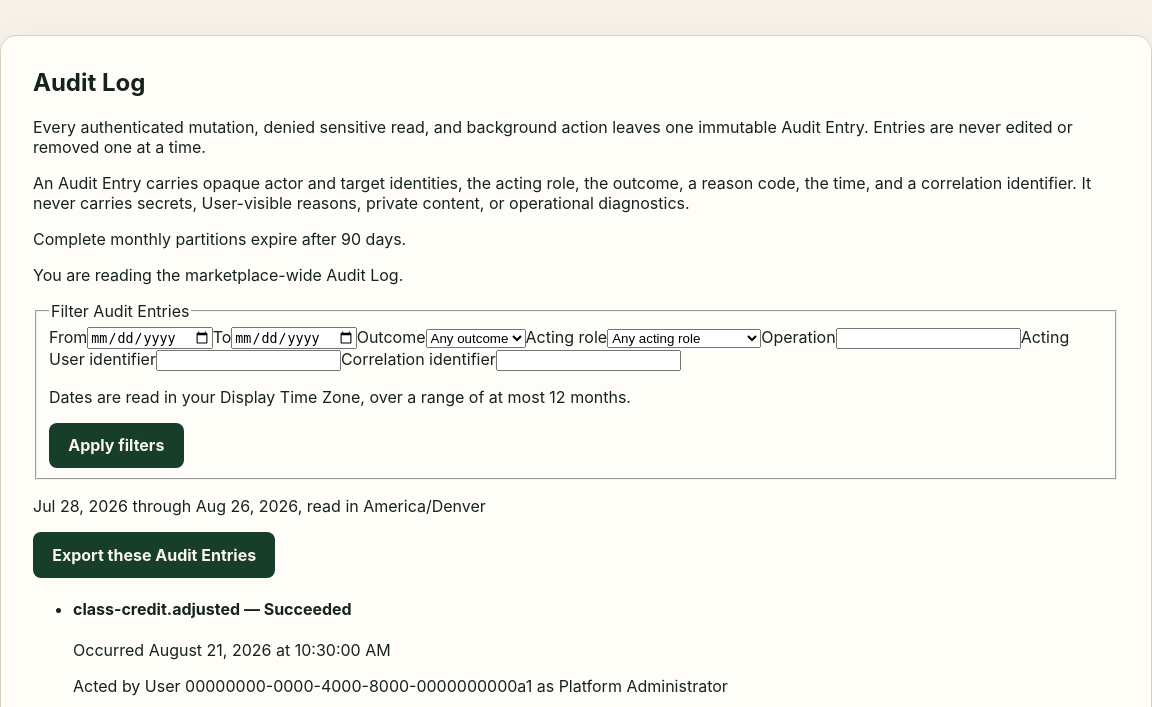
Test: Audit Log panel › applies a stated filter and pages back through older entries
expect the heading "class-credit.adjusted — Succeeded" is shown: met, box 73,599 -> 352,619
In the date field labelled "From": (150, 338) 87,327 -> 213,349, type "2026-08-22"
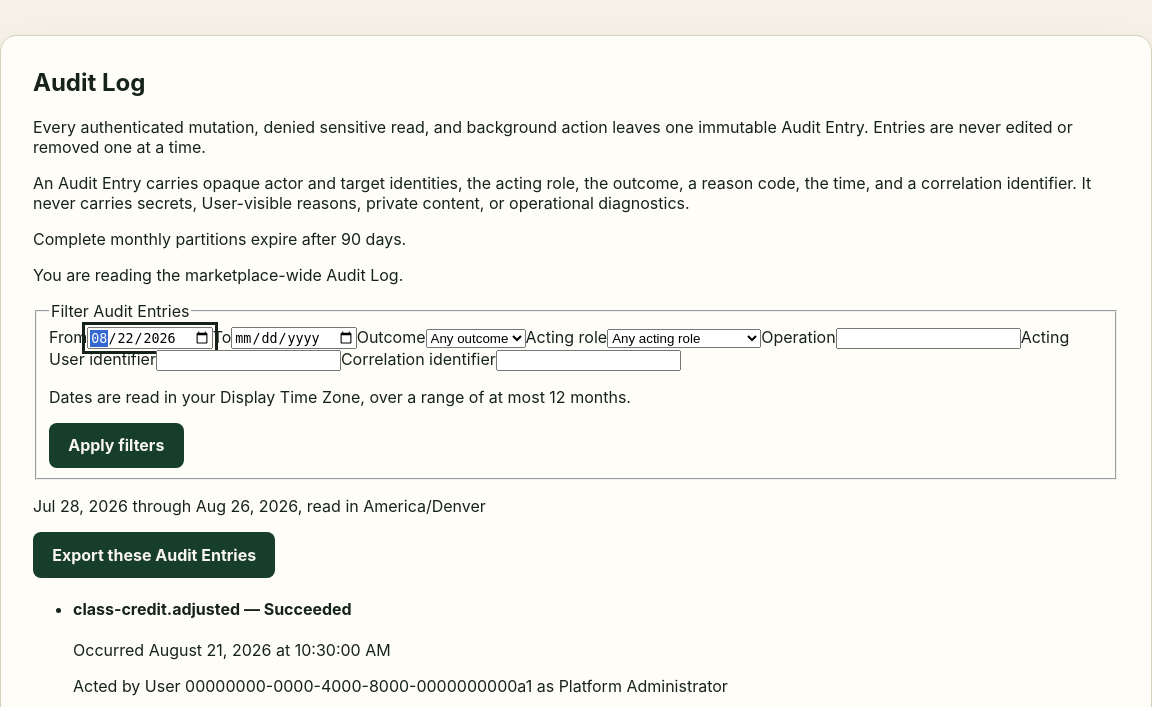
In the date field labelled "To": (294, 338) 231,327 -> 357,349, type "2026-08-22"
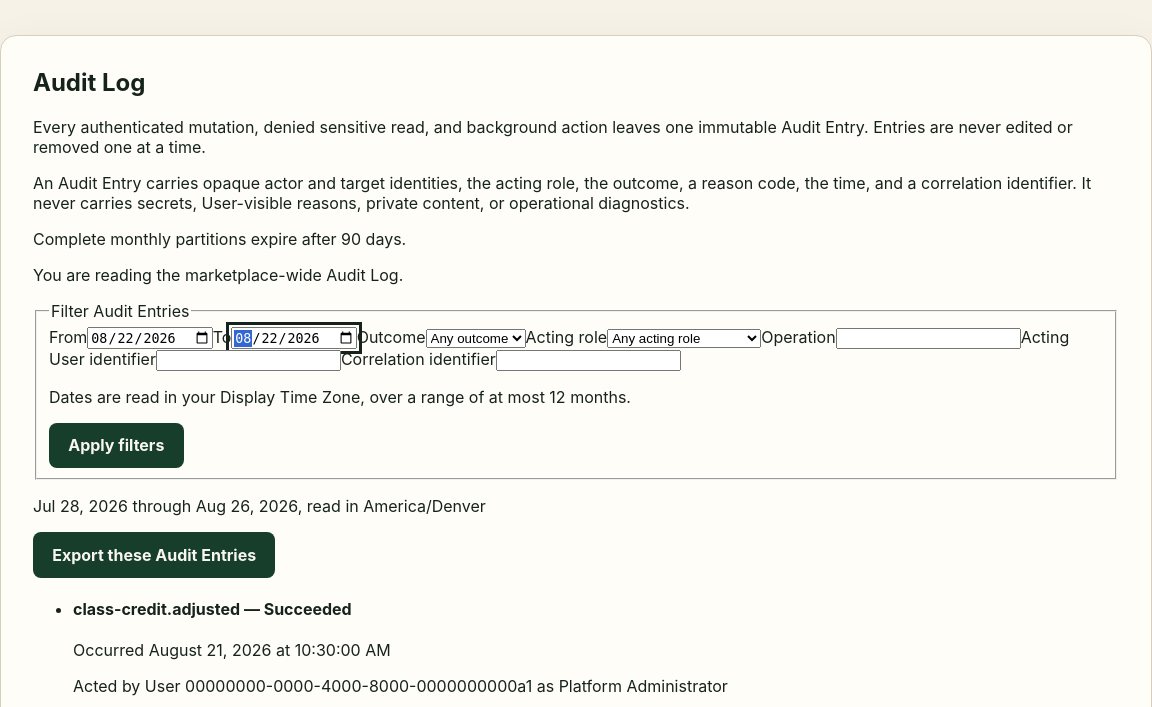
Select "Denied" in the dropdown labelled "Outcome": (476, 338) 426,328 -> 526,348
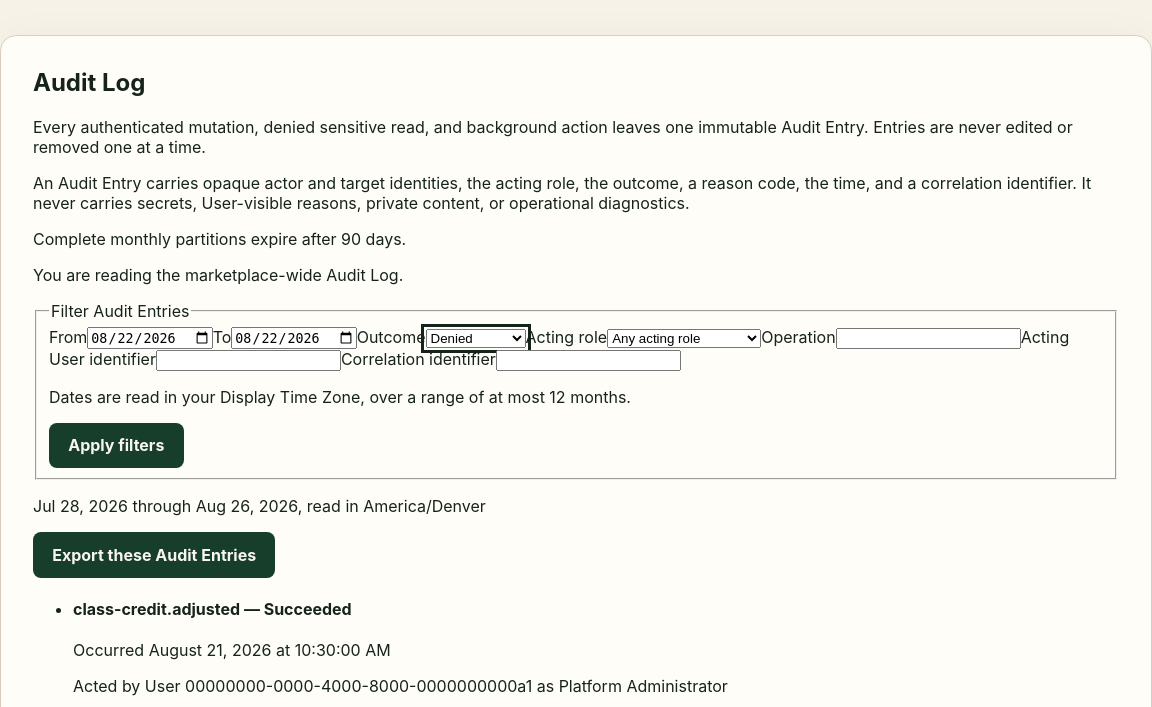
In the field labelled "Acting User identifier": (248, 360) 156,350 -> 341,371, type "00000000-0000-4000-8000-0000000000a1"
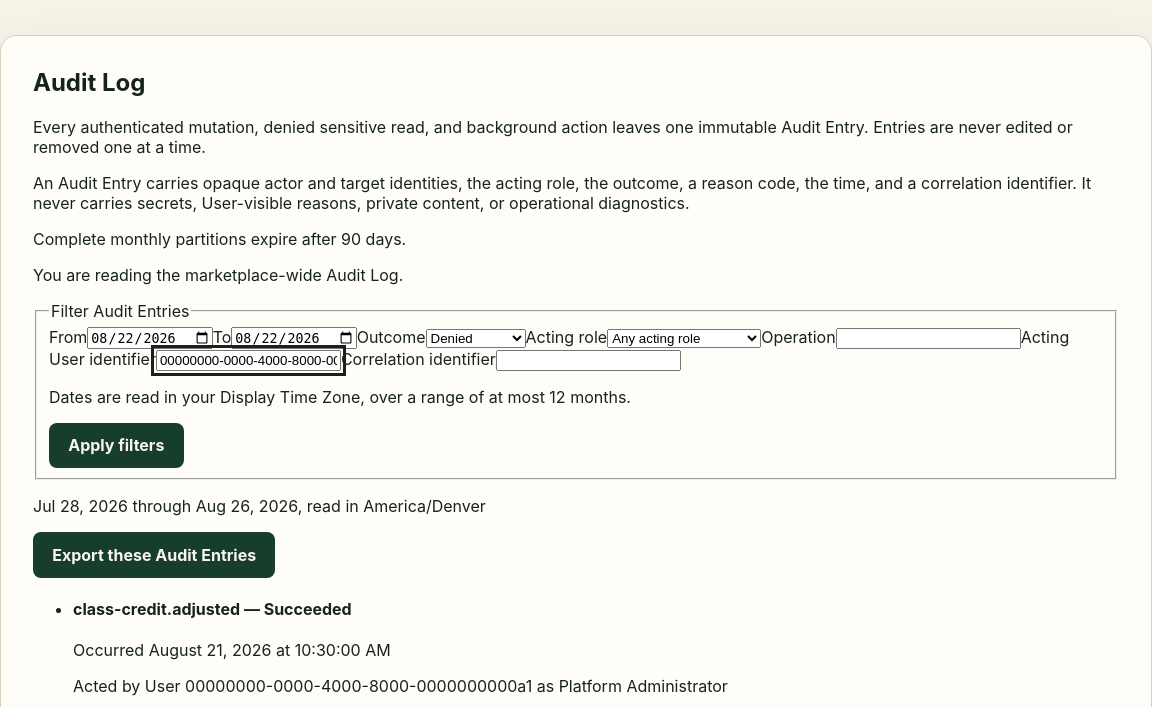
Click the button "Apply filters": (116, 446) 49,423 -> 184,468
(page scrolled)
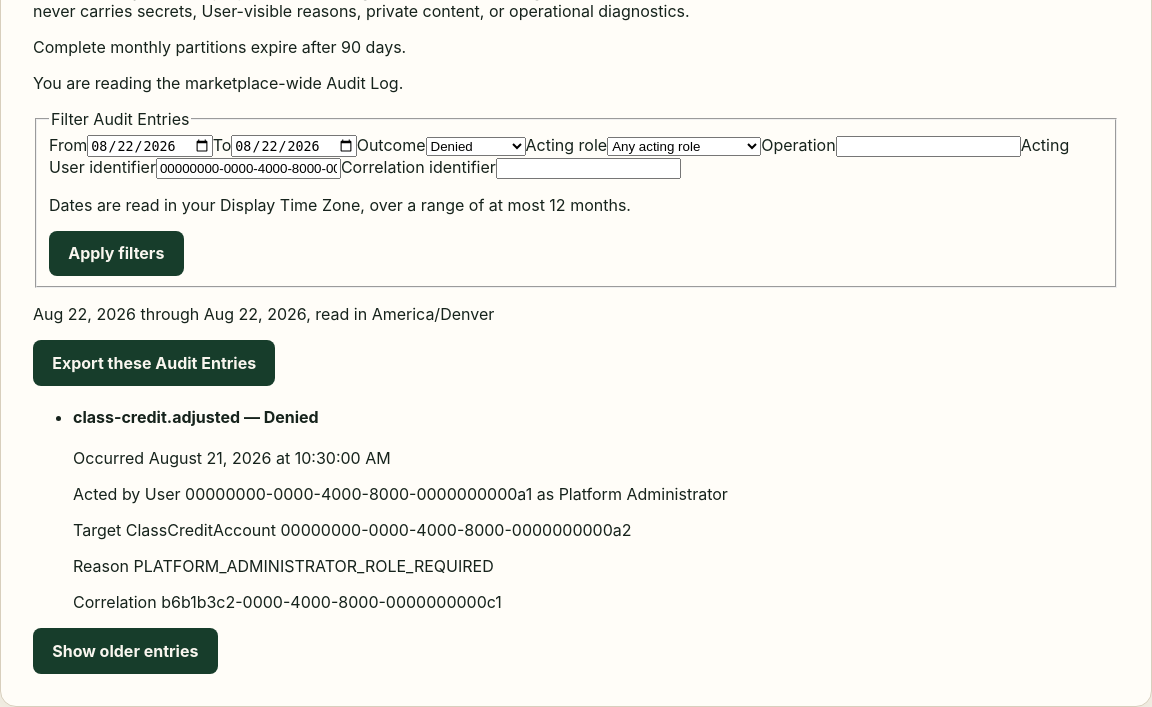
expect the text "Reason PLATFORM_ADMINISTRATOR_ROLE_REQUIRED" is shown: met, box 73,556 -> 494,576
Click the button "Show older entries": (125, 651) 33,628 -> 218,674
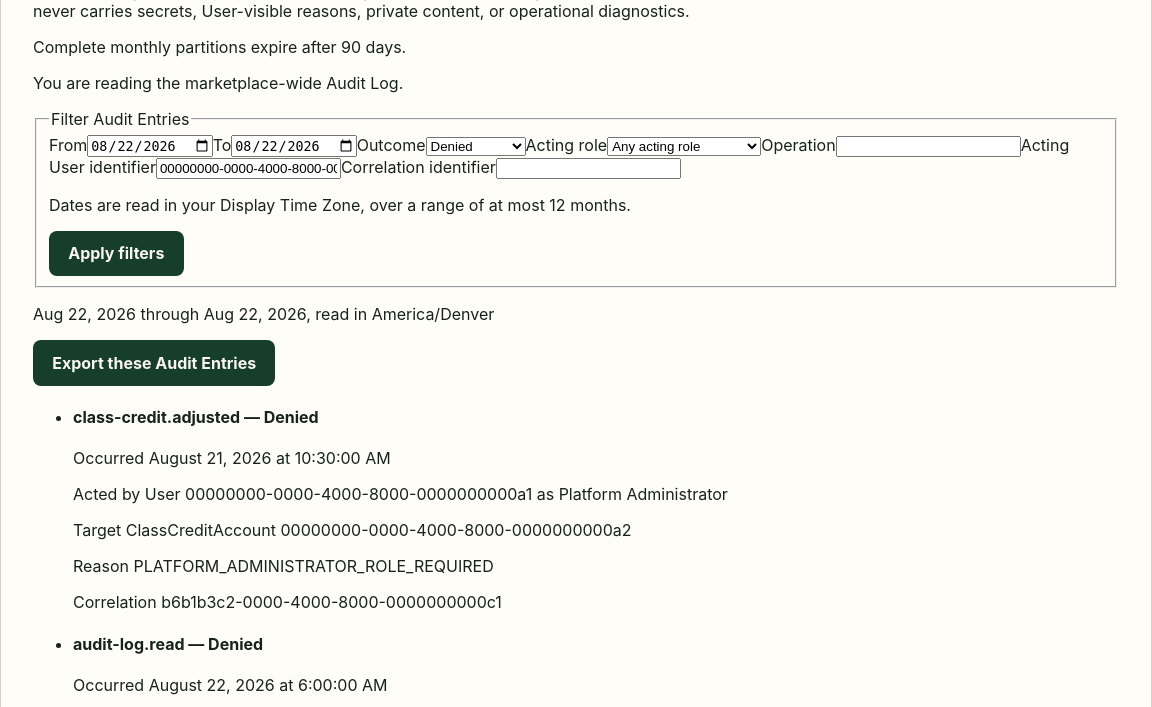
expect the text "Reason PLATFORM_ADMINISTRATOR_ROLE_REQUIRED" is shown: met, box 73,556 -> 494,576
expect the button "Show older entries" is gone: met
